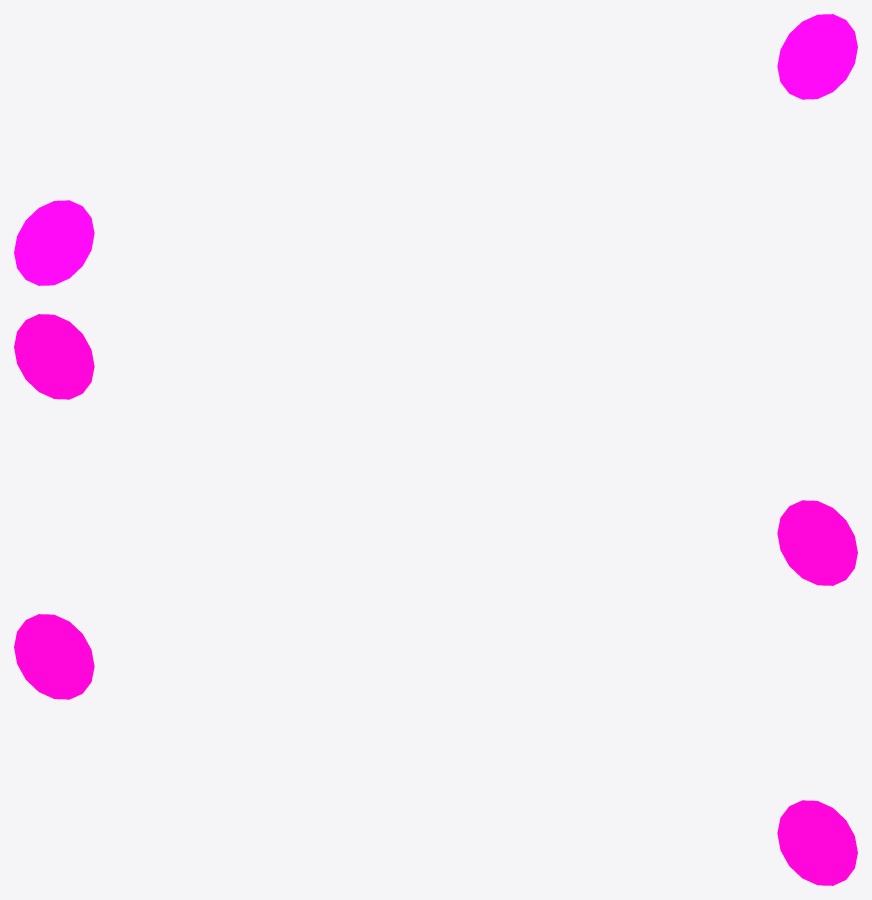
File: 1StageGenericOrganLightsInner.glb
The picture shows the model from 3 angles, top to bottom: view 1: azimuth 30°, elevation 25°; view 2: azimuth 150°, elevation 25°; view 3: azimuth 330°, elevation 25°; orthographic projection.
Visible parts, largest first — view 1: OrganLightsInner; view 2: OrganLightsInner; view 3: OrganLightsInner.
Part boxes in pixels (box(x1,y1,x2,y2)): OrganLightsInner: box(14, 14, 857, 285); OrganLightsInner: box(14, 314, 857, 585); OrganLightsInner: box(14, 614, 857, 885).
Size of the model in its own units: 1.02 by 0.0972 by 2.27e-07.
